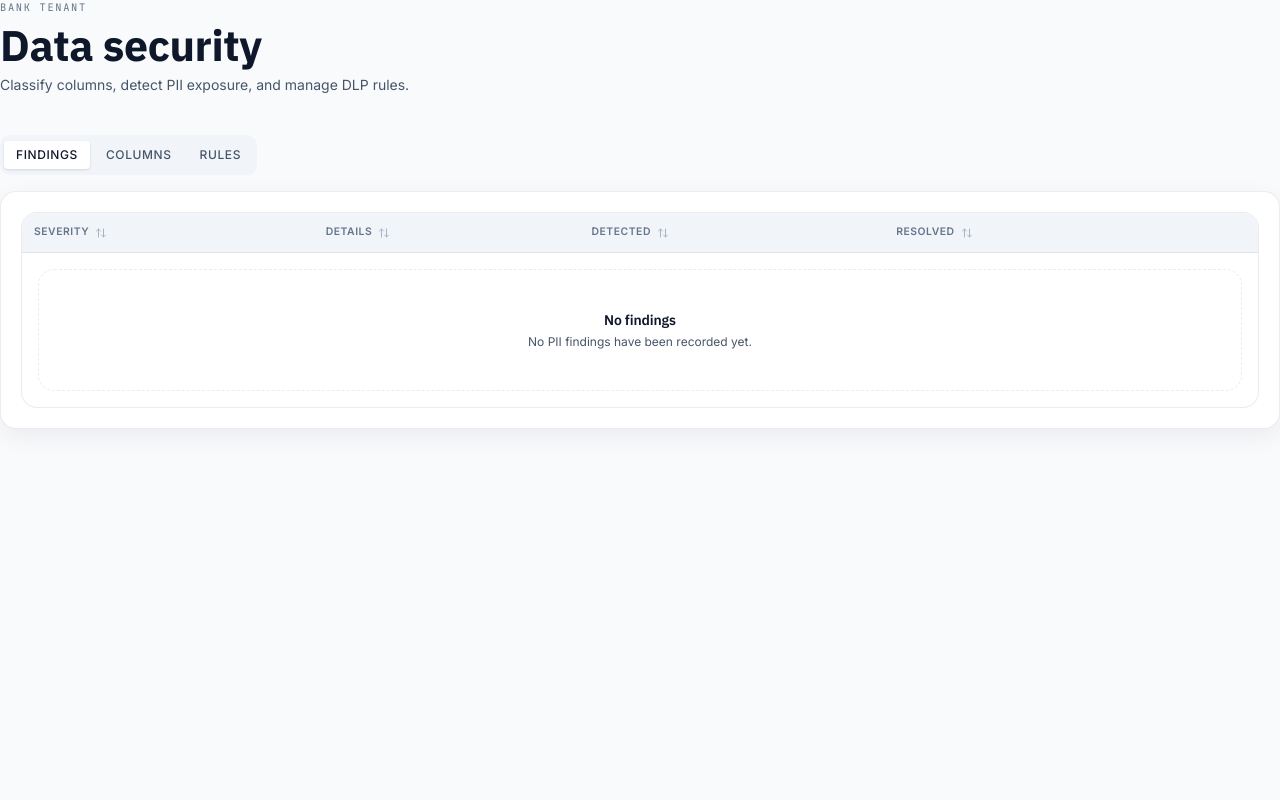
Scenario: DataSecurity › keeps failed DLP rule deletes visible in the confirmation modal
Click the tab "Rules" at (220, 155), box [188,141,253,169]
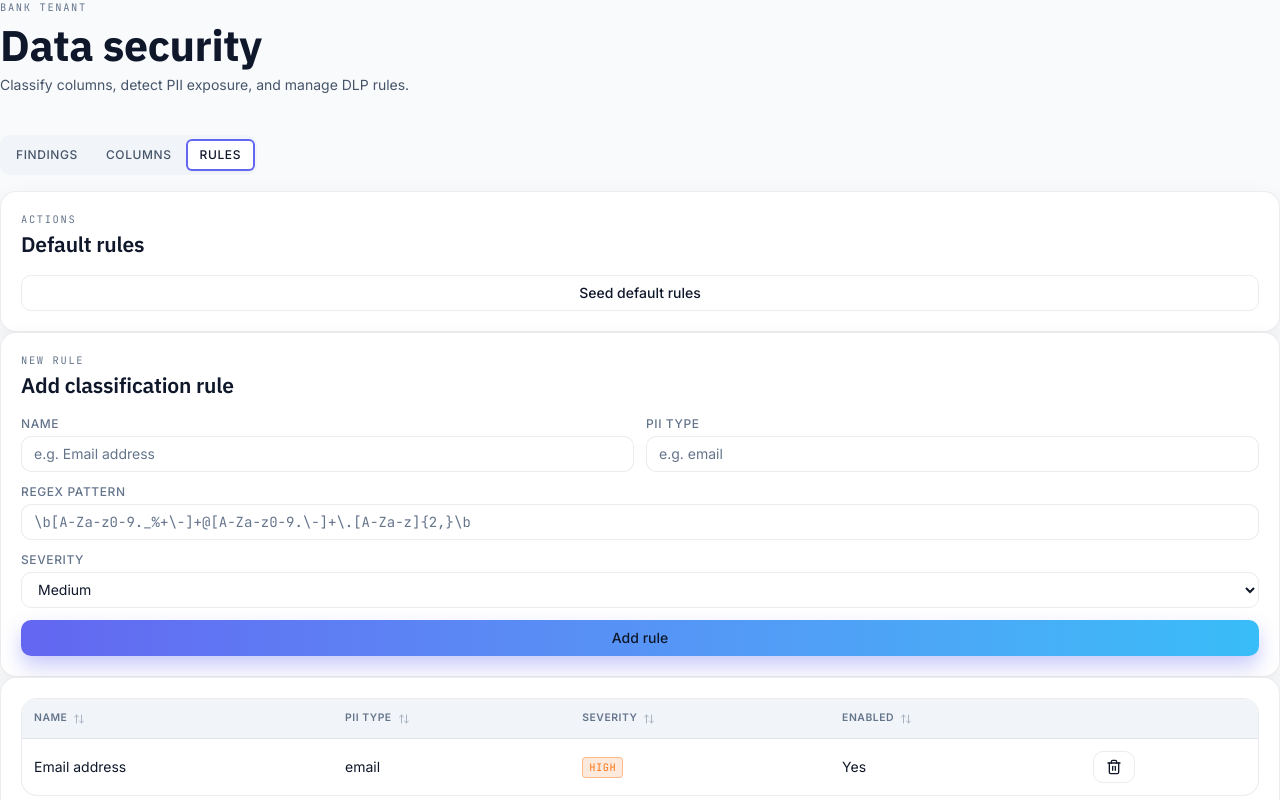
Click the button named "delete classification rule email address" at (1114, 767), box [1093,751,1135,783]
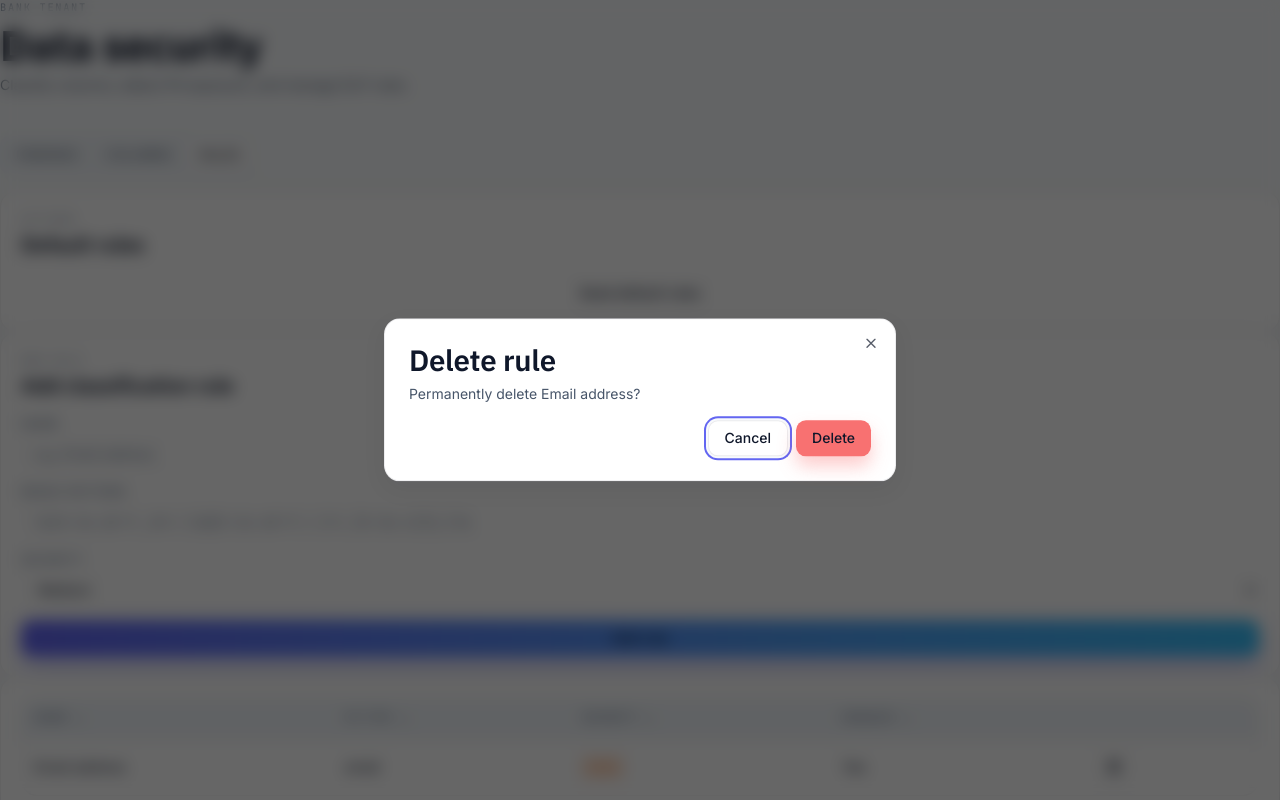
Expected: the dialog "Delete rule Permanently delete Email address? Cancel Delete" is shown, [384,318,896,482]
Click the button "Delete" at (834, 439), box [796,421,871,457]
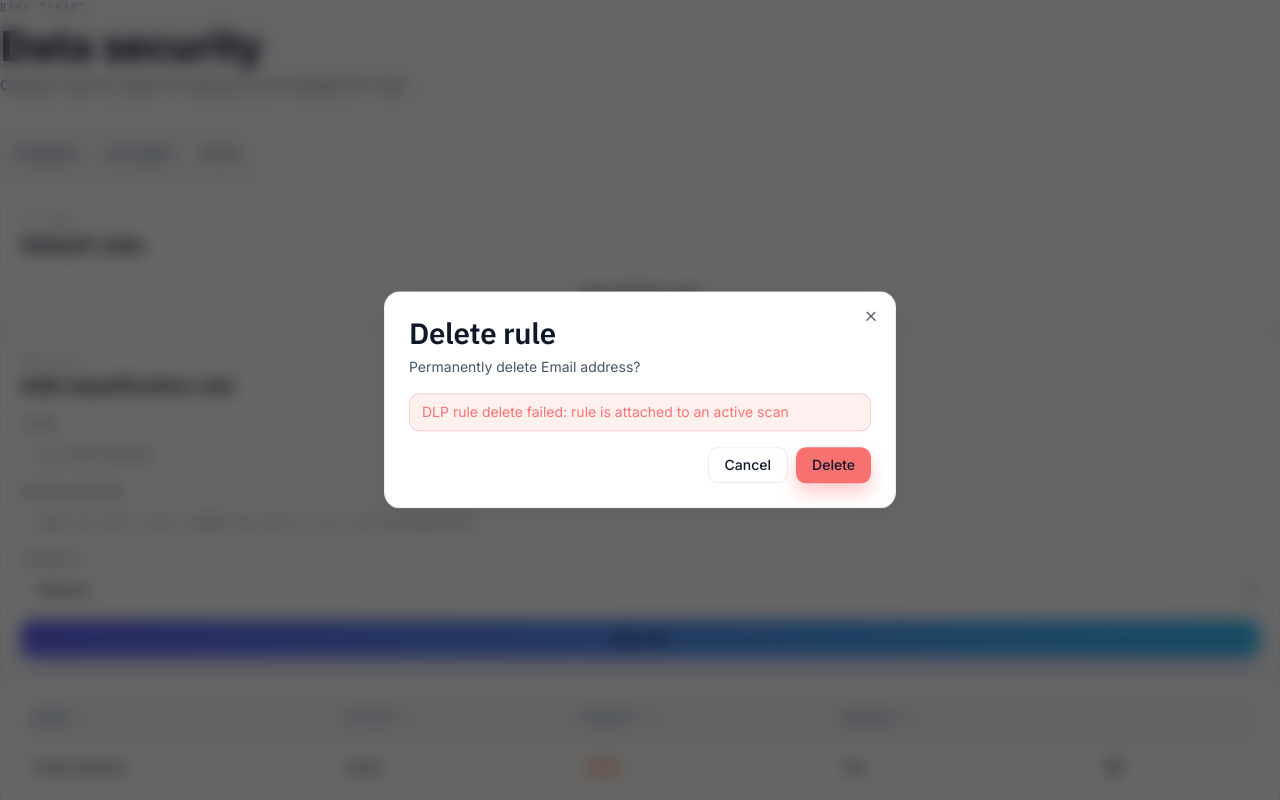
Expected: the dialog "Delete rule" is shown, [384,291,896,509]
Expected: the message reads "DLP rule delete failed: rule is attached to an active scan", [422,404,789,421]
